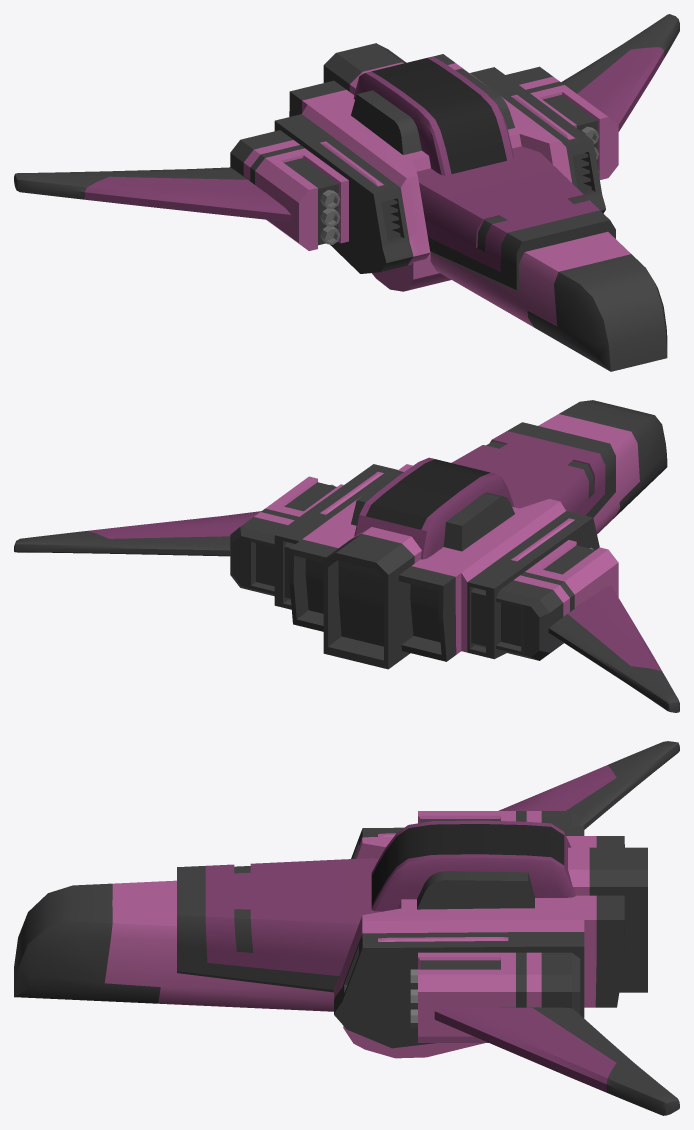
Rendered from Spaceship_FernandoTheFlamingo.gltf.
3 views of the same model, one above another, from view 1: azimuth 30°, elevation 25°; view 2: azimuth 150°, elevation 25°; view 3: azimuth 270°, elevation 25° (orthographic). The views are drawn at different scales.
Visible parts, largest first — view 1: Spacecraft; view 2: Spacecraft; view 3: Spacecraft.
Part boxes in pixels (x1,y1,x2,y2): Spacecraft: [14, 14, 679, 371]; Spacecraft: [14, 400, 679, 712]; Spacecraft: [14, 741, 679, 1115].
Bounding box in the file's own units: 11.14 × 2.53 × 8.66.
1 material, 1 textured.
